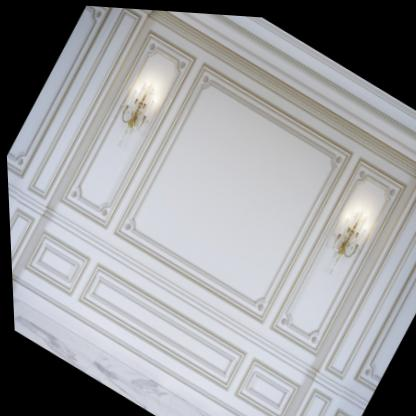Futec frame: (44, 15, 416, 364), (15, 221, 303, 416), (0, 0, 151, 208), (311, 171, 416, 396), (6, 177, 49, 286)
